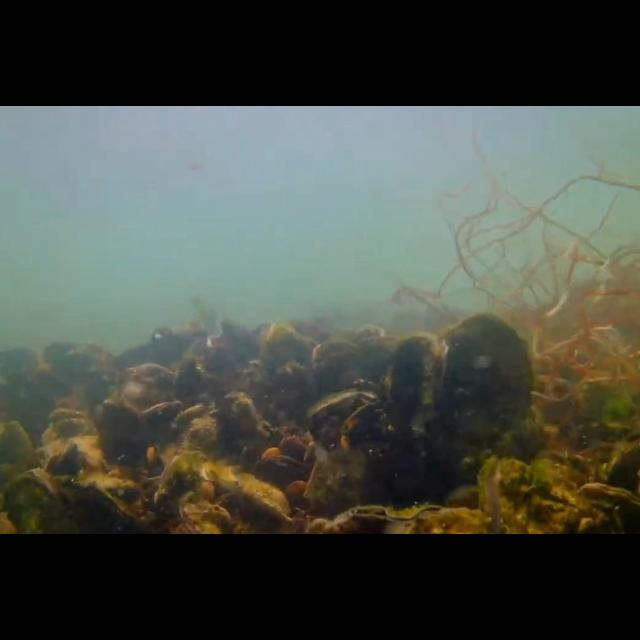Oyster-Closed: (446, 314, 534, 444), (391, 334, 449, 441), (303, 450, 369, 512), (156, 450, 207, 526), (96, 397, 146, 469), (1, 419, 40, 493), (220, 387, 260, 453), (233, 474, 291, 518), (49, 438, 80, 476)
Oyster-Open: (478, 454, 576, 534), (306, 389, 388, 453), (171, 404, 221, 448), (49, 408, 91, 434)
